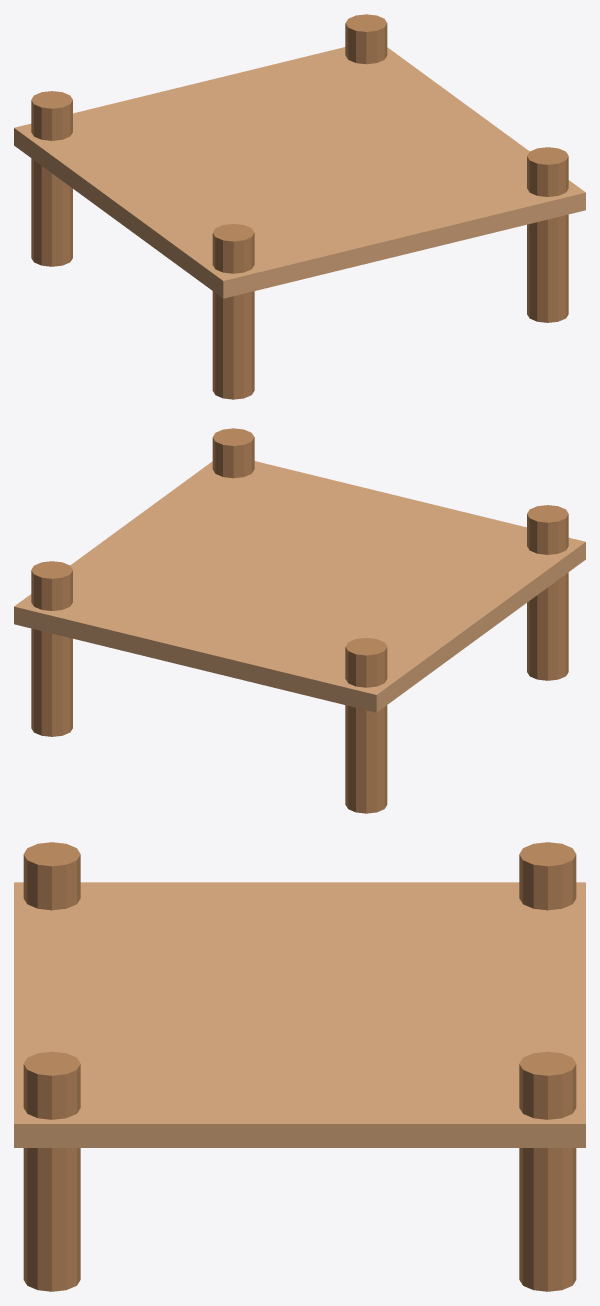
The model's file is dock_corner_3x3m.glb.
3 views of the same model, one above another, from view 1: azimuth 30°, elevation 25°; view 2: azimuth 150°, elevation 25°; view 3: azimuth 270°, elevation 25° (orthographic). The views are drawn at different scales.
Parts seen in each view (by area): view 1: dock_corner_3x3m; view 2: dock_corner_3x3m; view 3: dock_corner_3x3m.
Part boxes in pixels (box(x1,y1,x2,y2)): dock_corner_3x3m: box(14, 14, 585, 399); dock_corner_3x3m: box(14, 428, 585, 813); dock_corner_3x3m: box(14, 842, 585, 1291).
Size of the model in its own units: 3 by 1.25 by 3.
